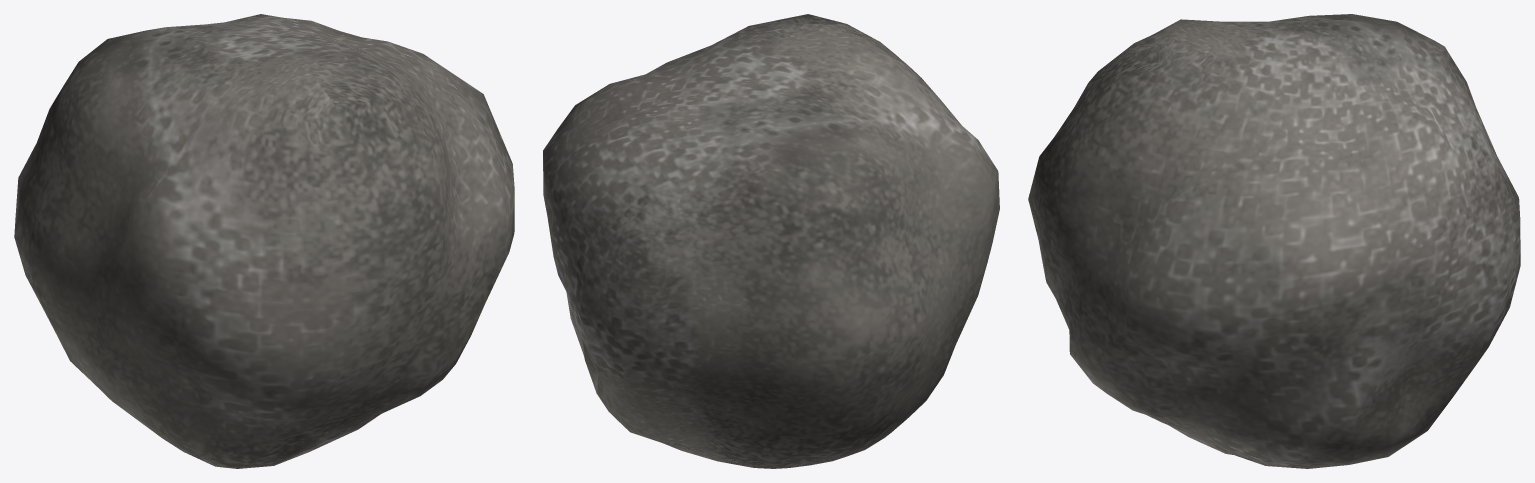
File: piedra.fbx
The picture shows the model from 3 angles, left to right: view 1: azimuth 30°, elevation 25°; view 2: azimuth 150°, elevation 25°; view 3: azimuth 270°, elevation 25°; orthographic projection. The views are drawn at different scales.
Visible parts, largest first — view 1: pCube1; view 2: pCube1; view 3: pCube1.
Part boxes in pixels (x1=…): pCube1: x1=14, y1=14, x2=514, y2=468; pCube1: x1=543, y1=14, x2=999, y2=468; pCube1: x1=1028, y1=14, x2=1520, y2=468.
Size of the model in its own units: 21.48 by 20 by 21.7.
Materials: 1 (1 with a texture image).
